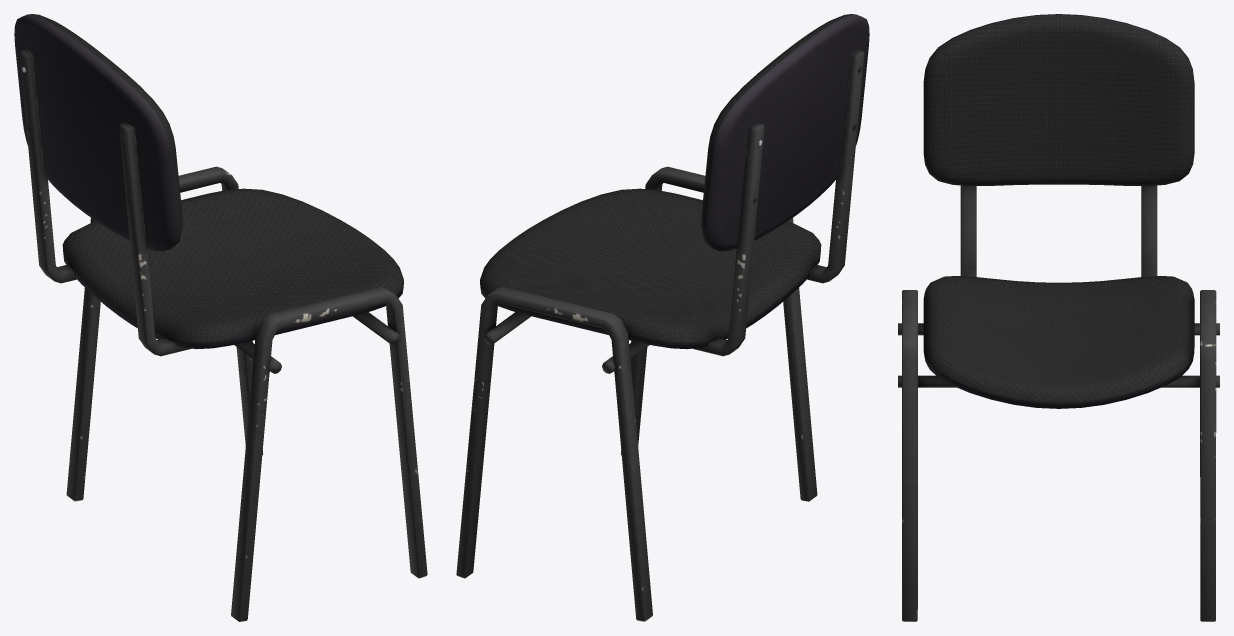
The model's file is chair.fbx.
3 renders of one model, left to right at view 1: azimuth 30°, elevation 25°; view 2: azimuth 150°, elevation 25°; view 3: azimuth 270°, elevation 25°, orthographic. The views are drawn at different scales.
Visible parts, largest first — view 1: chair; view 2: chair; view 3: chair.
Part boxes in pixels (bbox=[...]): chair: bbox=[14, 14, 427, 621]; chair: bbox=[456, 14, 869, 621]; chair: bbox=[898, 14, 1219, 621].
Size of the model in its own units: 0.4712 by 0.7883 by 0.47.
